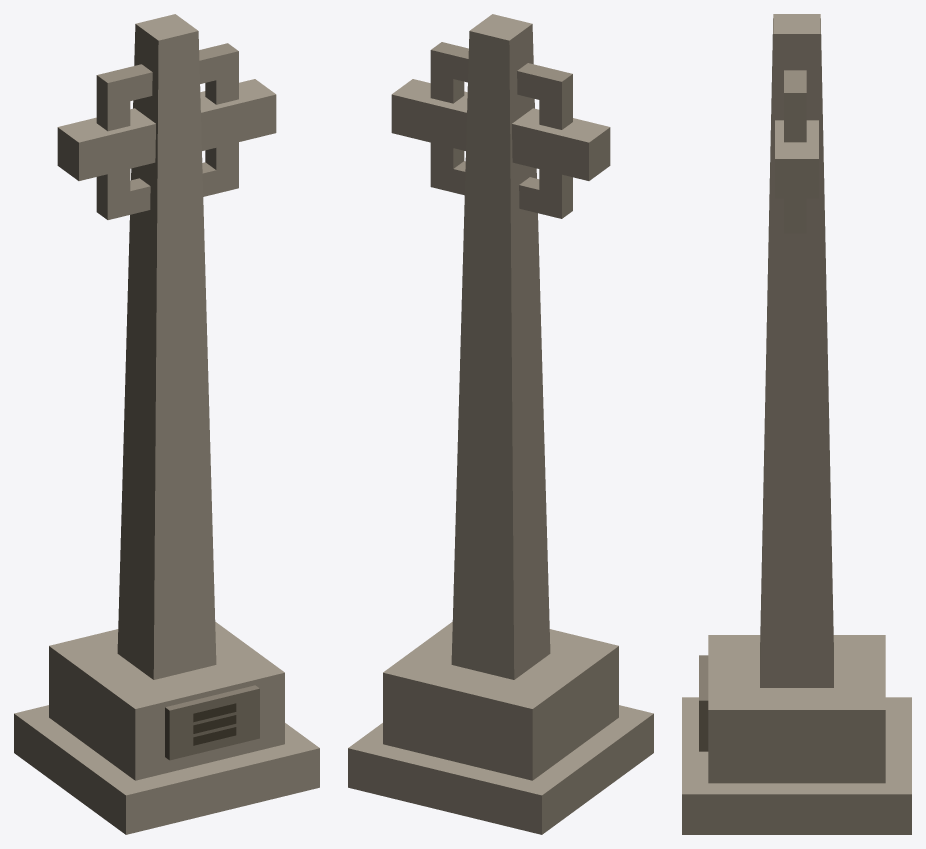
Rendered from SF_Prop_Grave_01.fbx.
3 views of the same model, side by side, from view 1: azimuth 30°, elevation 25°; view 2: azimuth 150°, elevation 25°; view 3: azimuth 270°, elevation 25° (orthographic). The views are drawn at different scales.
Parts seen in each view (by area): view 1: SF_Prop_Grave_01; view 2: SF_Prop_Grave_01; view 3: SF_Prop_Grave_01.
Part boxes in pixels (x1,y1,x2,y2): SF_Prop_Grave_01: [14, 14, 319, 834]; SF_Prop_Grave_01: [348, 14, 653, 834]; SF_Prop_Grave_01: [682, 14, 911, 834].
Bounding box in the file's own units: 1.6 × 5.75 × 1.57.
